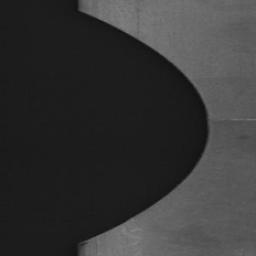Crescent gap: (80, 11, 209, 245)
